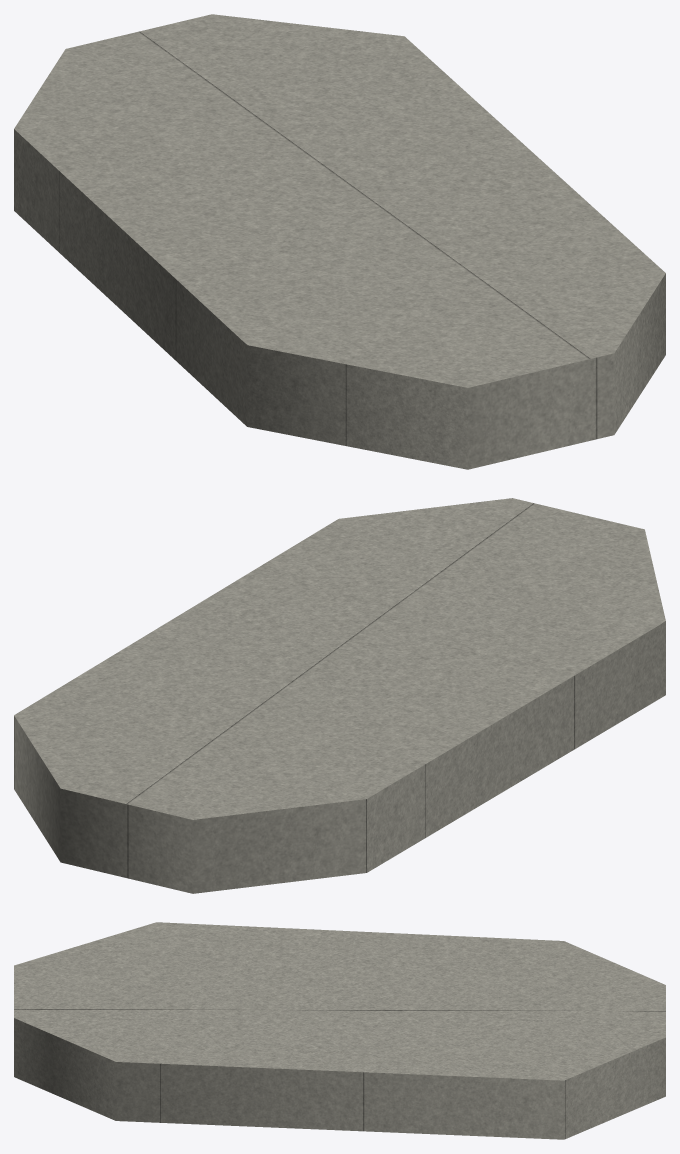
The model's file is curb_11.gltf.
3 renders of one model, top to bottom at view 1: azimuth 30°, elevation 25°; view 2: azimuth 150°, elevation 25°; view 3: azimuth 270°, elevation 25°, orthographic. The views are drawn at different scales.
Visible parts, largest first — view 1: curb_11.surface, curb_11.sides; view 2: curb_11.surface, curb_11.sides; view 3: curb_11.surface, curb_11.sides.
Part boxes in pixels (x1,y1,x2,y2): curb_11.surface: [14, 14, 665, 387]; curb_11.sides: [14, 129, 665, 469]; curb_11.surface: [14, 498, 665, 819]; curb_11.sides: [14, 621, 665, 893]; curb_11.surface: [14, 922, 665, 1080]; curb_11.sides: [14, 1018, 665, 1139].
Size of the model in its own units: 0.8994 by 0.1695 by 1.6.
1 material, 1 textured.
